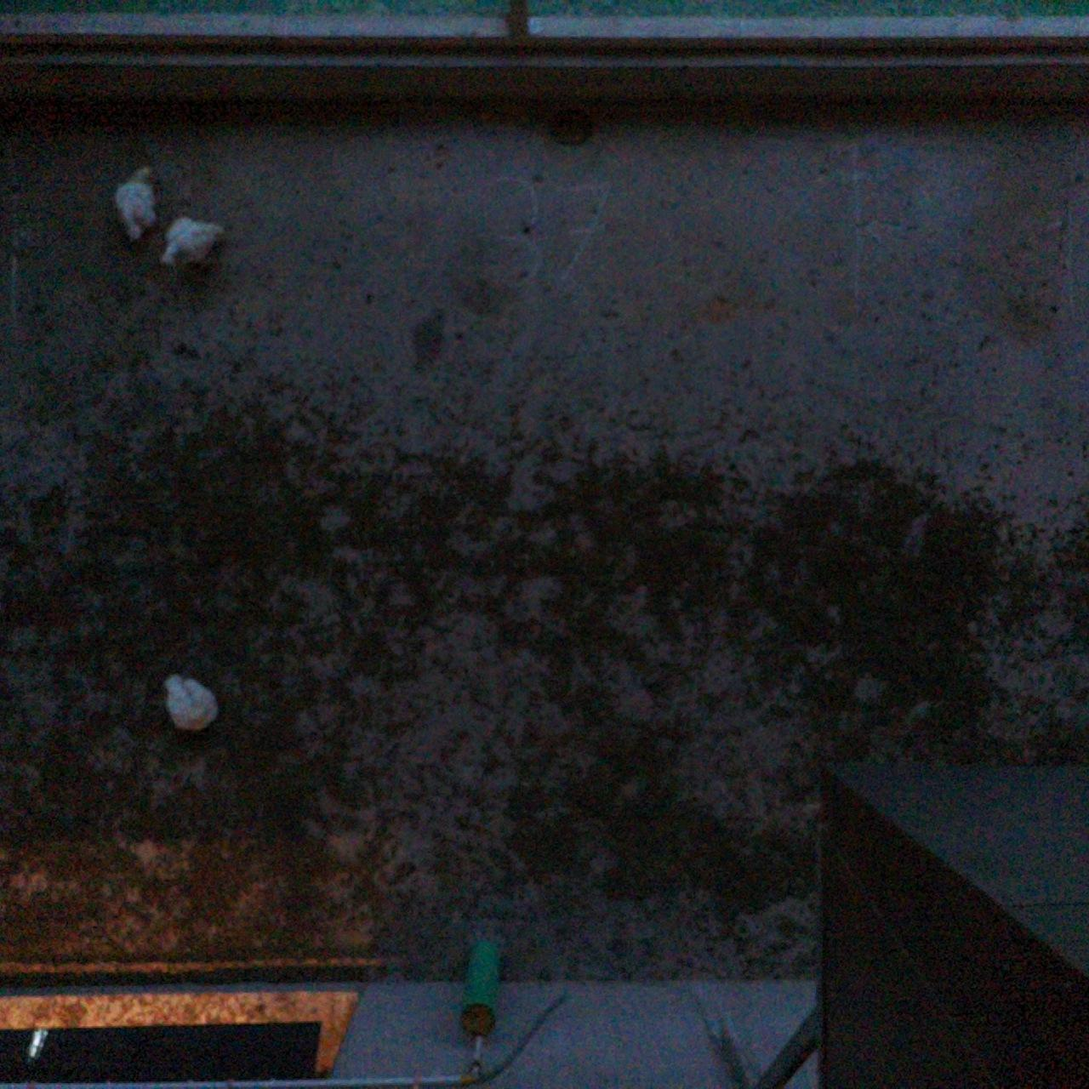chicken: (157, 207, 235, 273), (158, 667, 224, 736), (113, 161, 162, 246)
